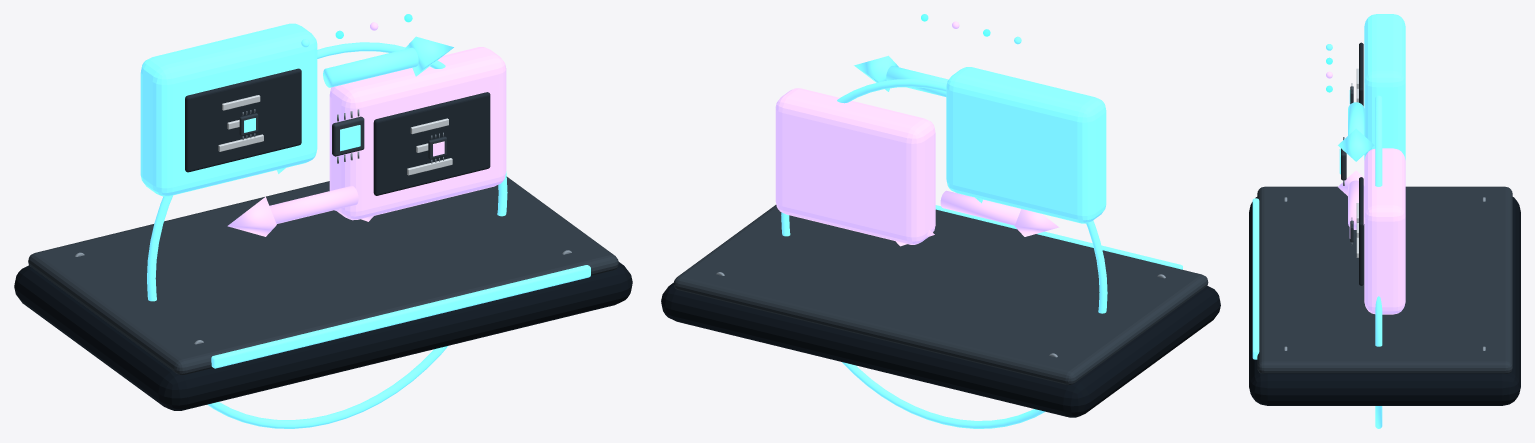
Rendered from DSP_Message.glb.
3 renders of one model, left to right at view 1: azimuth 30°, elevation 25°; view 2: azimuth 150°, elevation 25°; view 3: azimuth 270°, elevation 25°, orthographic. The views are drawn at different scales.
Visible parts, largest first — view 1: DSP_Message_Base1, DSP_Message_Base0, DSP_Message_Req_Body, DSP_Message_Res_Body, DSP_Message_Res_Screen, DSP_Message_Req_Screen, DSP_Message_FrontGlow, DSP_Message_ProtocolRing, DSP_Message_ArrowA, DSP_Message_ArrowB, DSP_Message_ArrowBHead, DSP_Message_ArrowAHead (+1 smaller); view 2: DSP_Message_Base1, DSP_Message_Req_Body, DSP_Message_Res_Body, DSP_Message_Base0, DSP_Message_ProtocolRing, DSP_Message_ArrowB, DSP_Message_FrontGlow, DSP_Message_ArrowBHead, DSP_Message_ArrowA, DSP_Message_ArrowAHead; view 3: DSP_Message_Base1, DSP_Message_Base0, DSP_Message_Res_Body, DSP_Message_Req_Body, DSP_Message_ProtocolRing, DSP_Message_FrontGlow, DSP_Message_ArrowAHead, DSP_Message_Res_Screen, DSP_Message_ArrowB, DSP_Message_ArrowA, DSP_Message_Req_Screen.
Boxes of the visible parts, x1,y1,x2,y2 form: DSP_Message_Base1: (28,176,618,374); DSP_Message_Base0: (14,262,632,410); DSP_Message_Req_Body: (140,23,317,196); DSP_Message_Res_Body: (329,47,506,220); DSP_Message_Res_Screen: (373,92,490,195); DSP_Message_Req_Screen: (185,68,301,172); DSP_Message_FrontGlow: (211,265,590,368); DSP_Message_ProtocolRing: (147,42,507,428); DSP_Message_ArrowA: (323,47,418,87); DSP_Message_ArrowB: (269,186,358,223); DSP_Message_ArrowBHead: (227,196,276,236); DSP_Message_ArrowAHead: (405,36,453,76); DSP_Message_Base1: (673,205,1208,384); DSP_Message_Req_Body: (946,67,1106,223); DSP_Message_Res_Body: (775,88,935,244); DSP_Message_Base0: (661,282,1220,417); DSP_Message_ProtocolRing: (781,79,1107,428); DSP_Message_ArrowB: (940,190,1020,225); DSP_Message_FrontGlow: (935,205,1182,269); DSP_Message_ArrowBHead: (1014,209,1059,236); DSP_Message_ArrowA: (886,66,948,96); DSP_Message_ArrowAHead: (854,55,898,91); DSP_Message_Base1: (1257,186,1512,373); DSP_Message_Base0: (1249,197,1520,405); DSP_Message_Res_Body: (1364,148,1405,314); DSP_Message_Req_Body: (1364,14,1405,159); DSP_Message_ProtocolRing: (1375,95,1382,428); DSP_Message_FrontGlow: (1252,198,1259,359); DSP_Message_ArrowAHead: (1338,128,1374,161); DSP_Message_Res_Screen: (1359,177,1363,285); DSP_Message_ArrowB: (1348,180,1364,229); DSP_Message_ArrowA: (1348,102,1364,135); DSP_Message_Req_Screen: (1359,42,1363,105).
Size of the model in its own units: 2.2 by 1.86 by 1.32.
